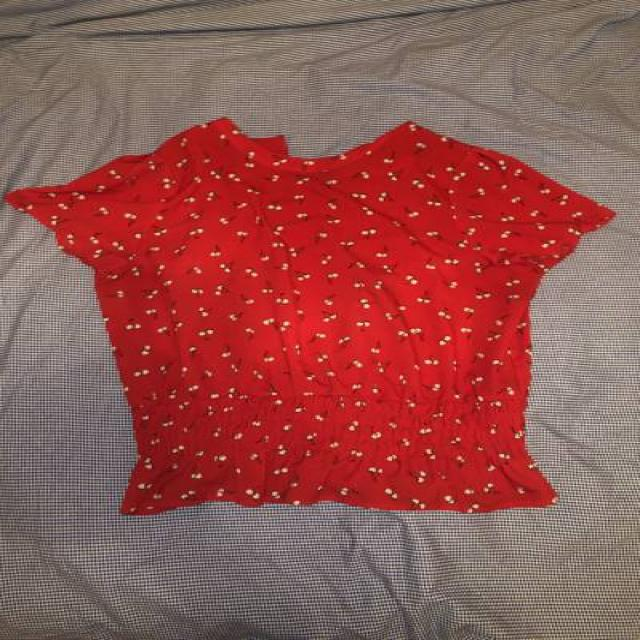Clothes -Biodegradable-: (8, 117, 617, 518)
